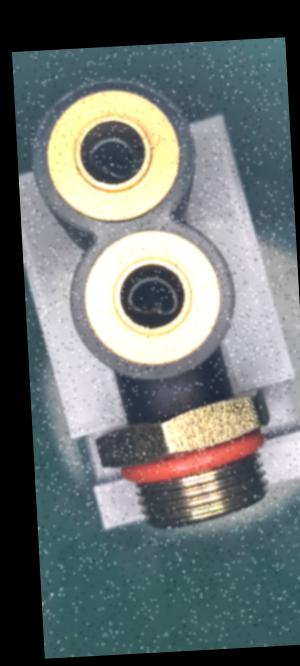joint line: (169, 377, 187, 414)
off-centered: (114, 270, 190, 326), (77, 128, 147, 187)
